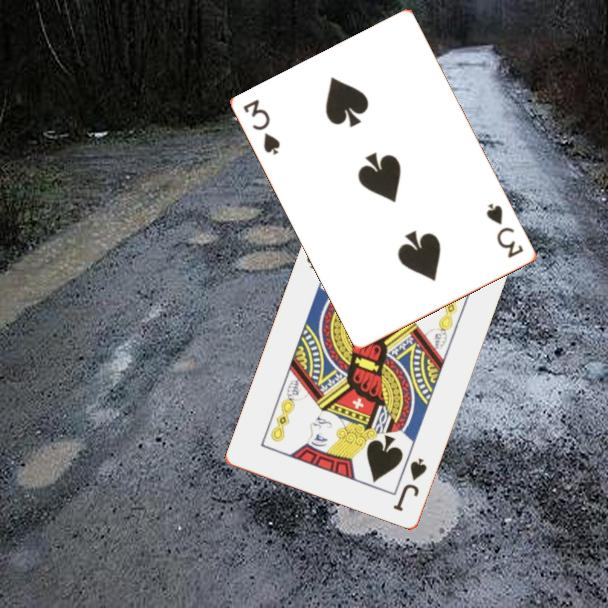s03: (483, 200, 527, 261), (240, 96, 283, 158)
s11: (390, 455, 430, 515)
